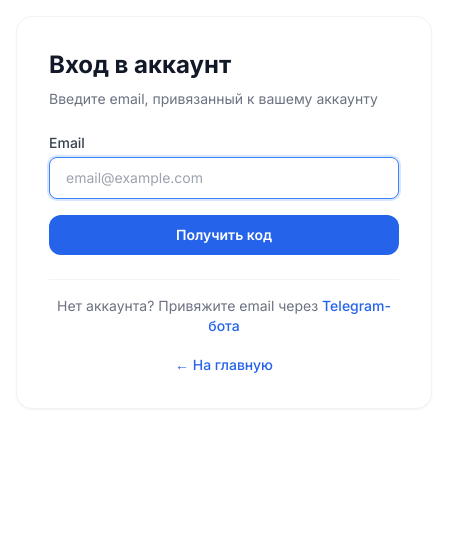
LoginForm › moves to the code step on a successful code send
Step 1. Type "user@example.com" into the field labelled "Email" → (224, 178), box [49,157,399,199]
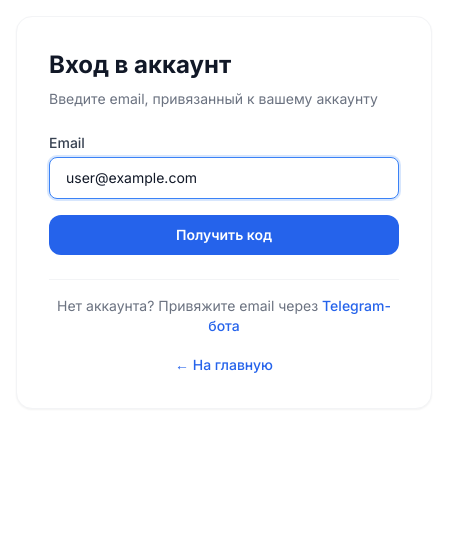
Step 2. Click the button "Получить код" → (224, 235), box [49,215,399,255]
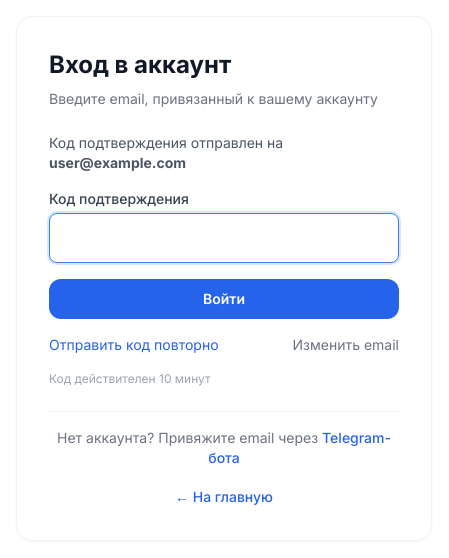
Expected: the text "Код подтверждения отправлен на user@example.com" is shown, [49,134,283,171]
